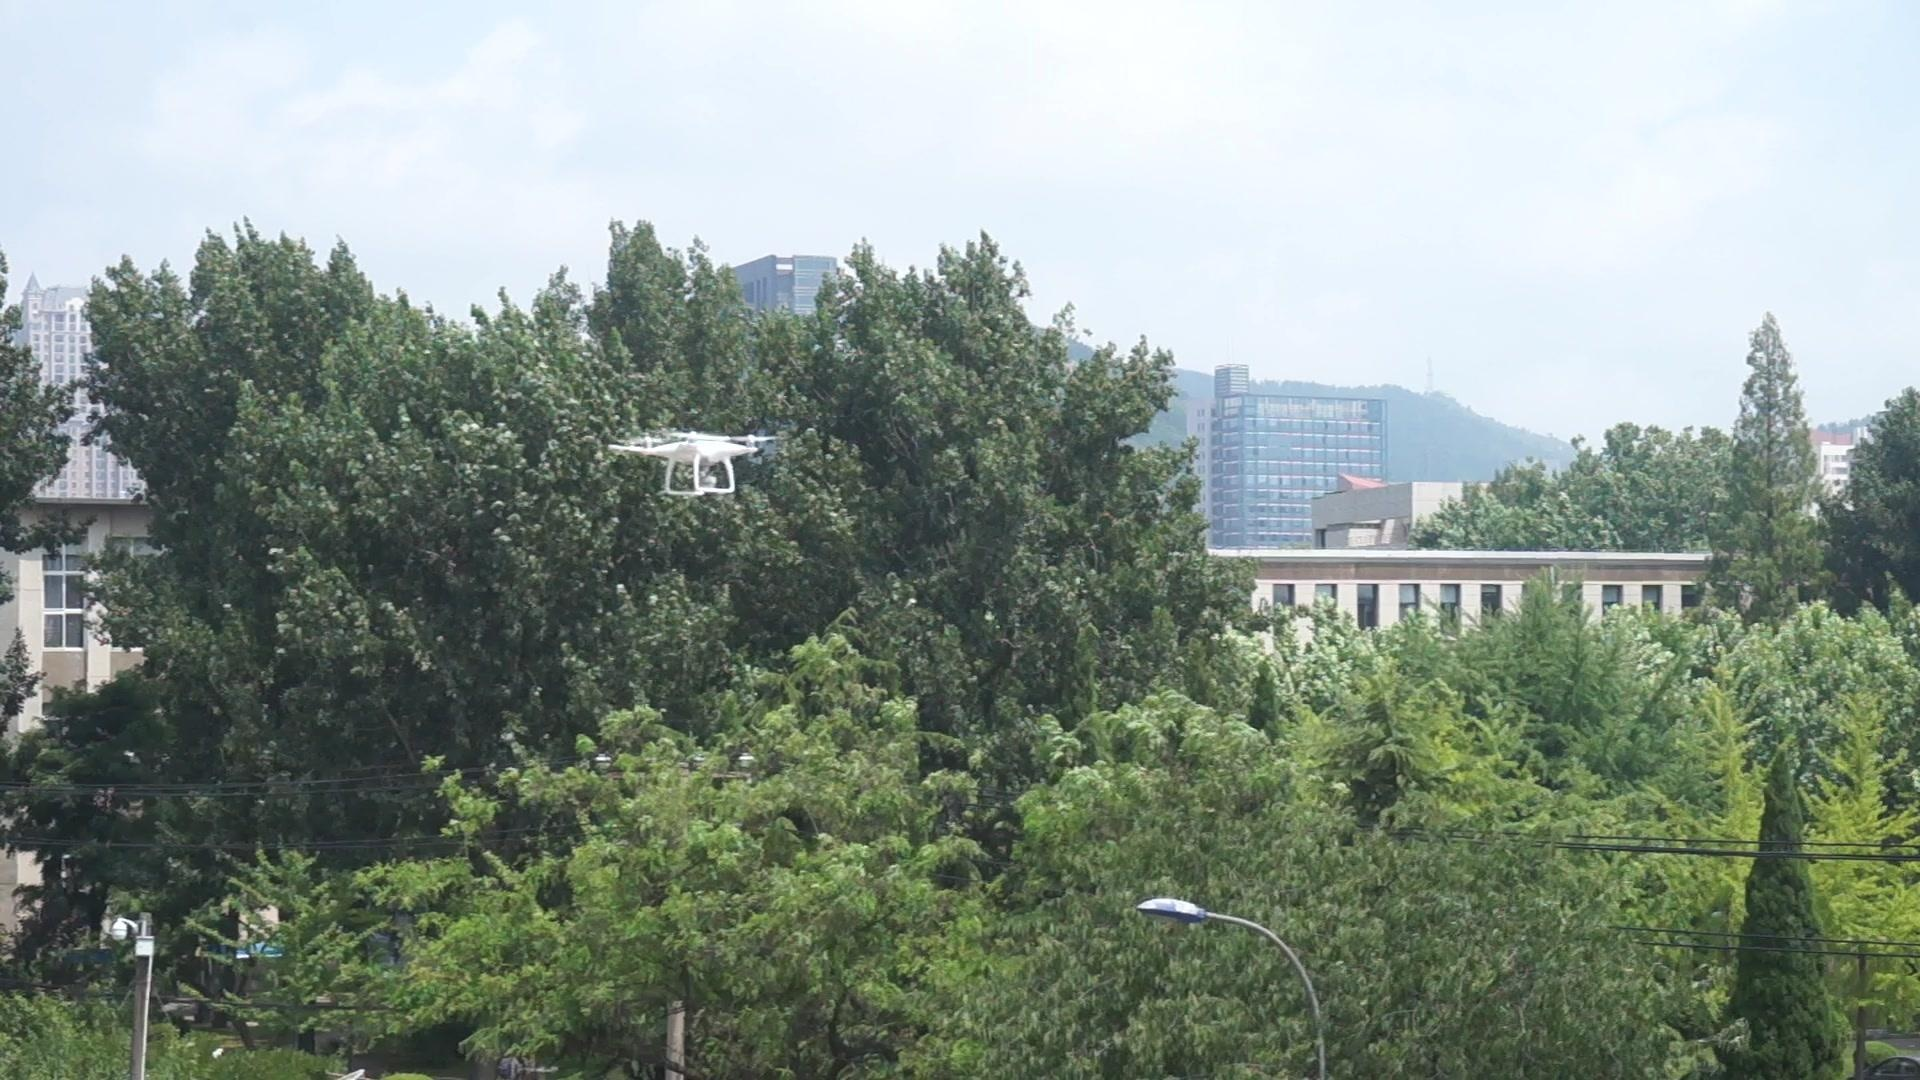UAV: (608, 433, 778, 496)
